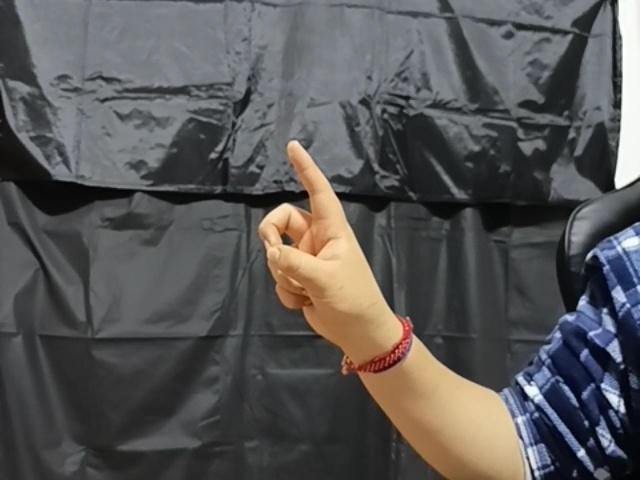D: (256, 139, 390, 342)
